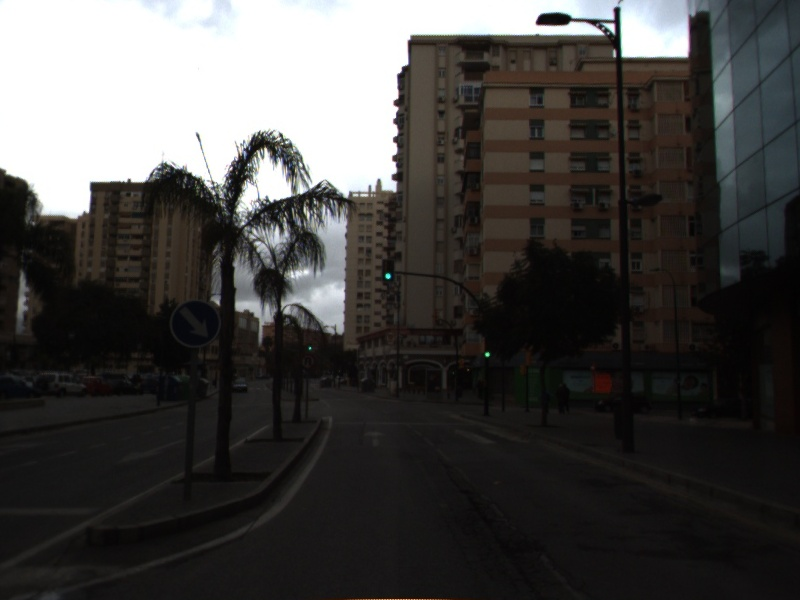STRAIGHT: (361, 427, 390, 449)
